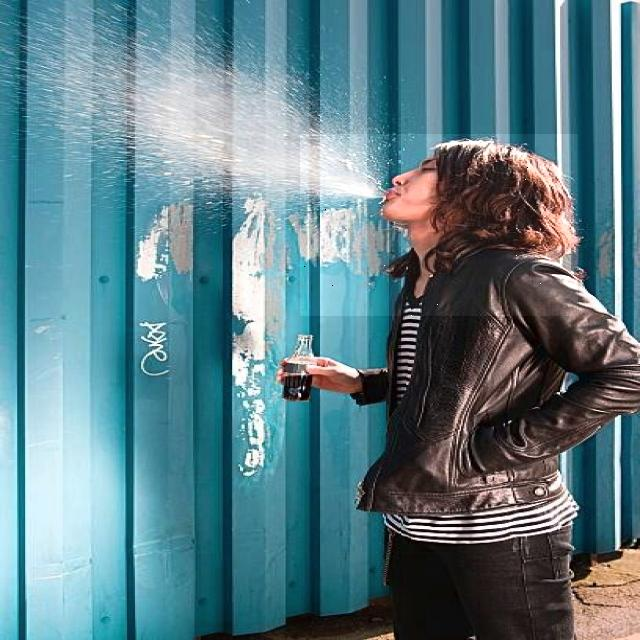Spitting: (300, 134, 578, 316)
